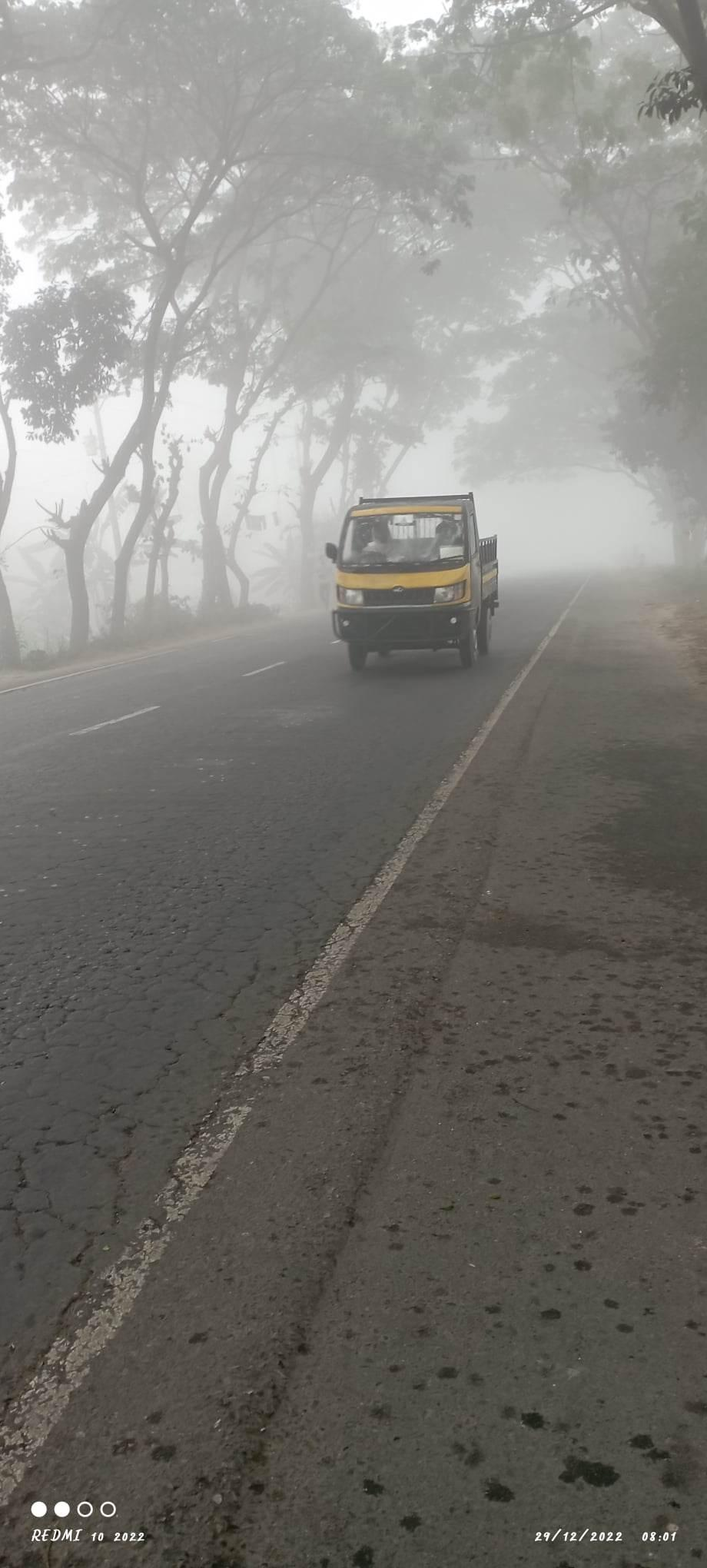Truck: (309, 457, 538, 746)
